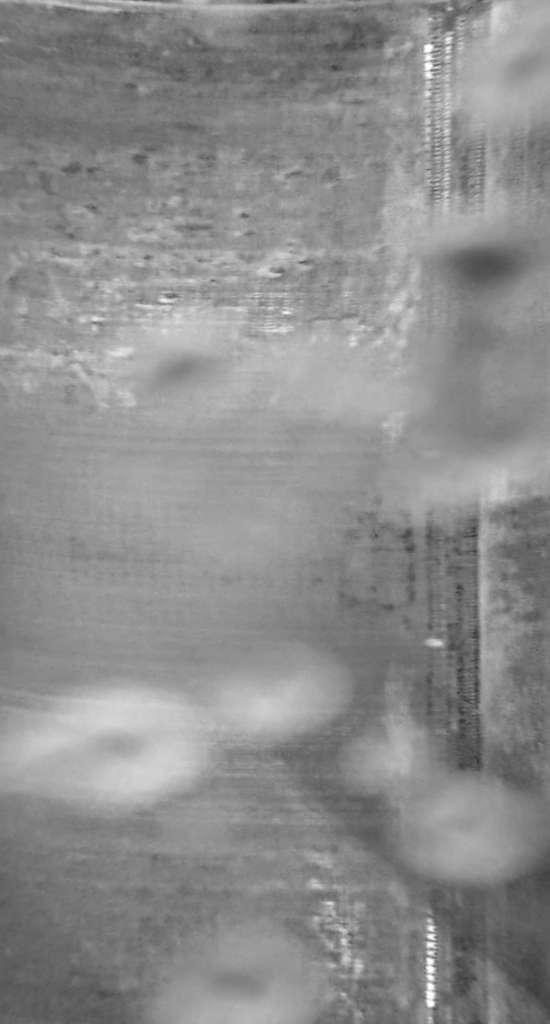splice: (403, 1, 508, 1024)
